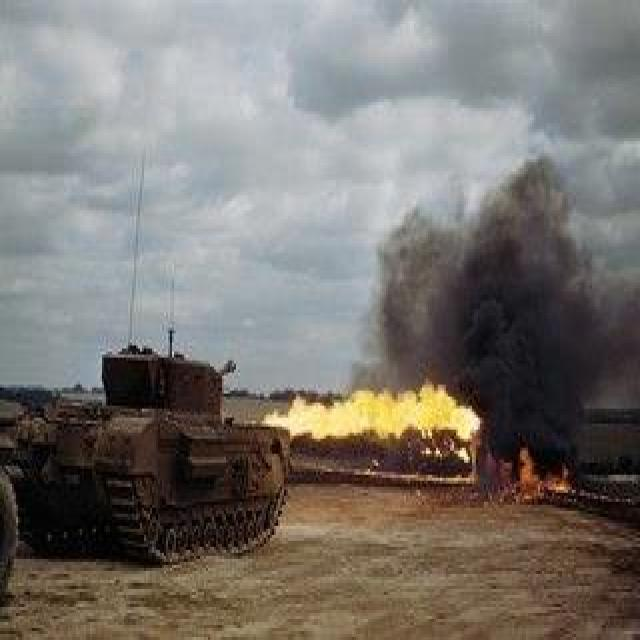Tanks: (23, 326, 297, 563)
